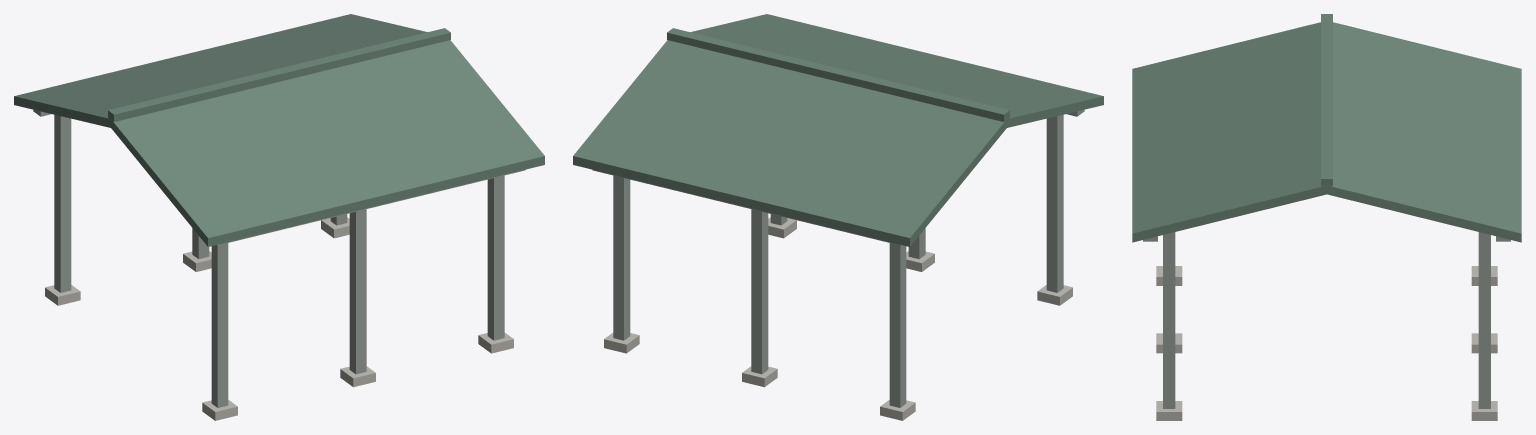
The picture shows the model from 3 angles, left to right: view 1: azimuth 30°, elevation 25°; view 2: azimuth 150°, elevation 25°; view 3: azimuth 270°, elevation 25°; orthographic projection.
Parts seen in each view (by area): view 1: osm533744353__roof, osm533744353__steel, osm533744353__base; view 2: osm533744353__roof, osm533744353__steel, osm533744353__base; view 3: osm533744353__roof, osm533744353__steel, osm533744353__base.
Part boxes in pixels (x1=…): osm533744353__roof: x1=14, y1=14, x2=544, y2=246; osm533744353__steel: x1=33, y1=109, x2=525, y2=407; osm533744353__base: x1=45, y1=217, x2=513, y2=420; osm533744353__roof: x1=573, y1=14, x2=1103, y2=246; osm533744353__steel: x1=592, y1=109, x2=1084, y2=407; osm533744353__base: x1=604, y1=217, x2=1072, y2=420; osm533744353__roof: x1=1132, y1=14, x2=1521, y2=242; osm533744353__steel: x1=1143, y1=232, x2=1510, y2=408; osm533744353__base: x1=1156, y1=266, x2=1497, y2=420.
Size of the model in its own units: 4.77 by 3.39 by 4.75.
